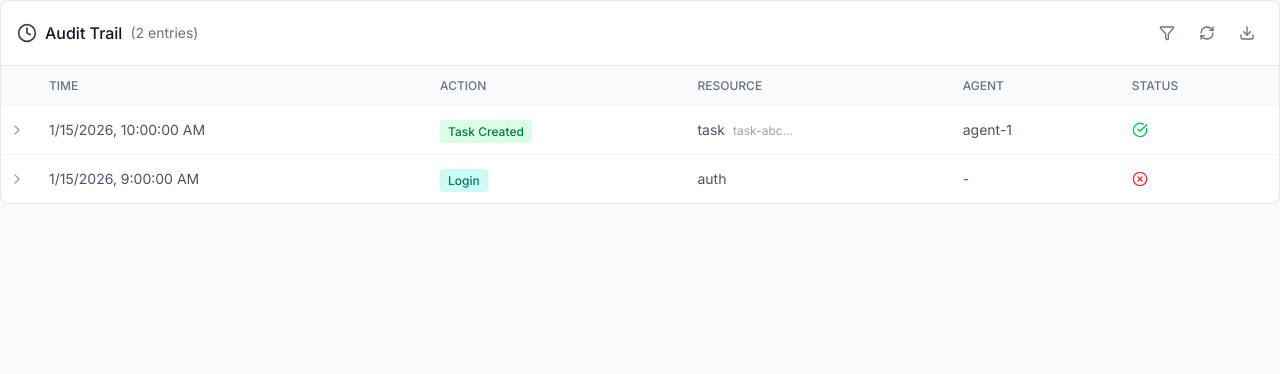
Scenario: AuditLogTable › expands row on click to show details
Expected: the text "Task Created" is shown, left=440, top=120, right=532, bottom=143
# Click on the first row
Click the text "Task Created". click: click(640, 130)
box: left=1, top=106, right=1279, bottom=154
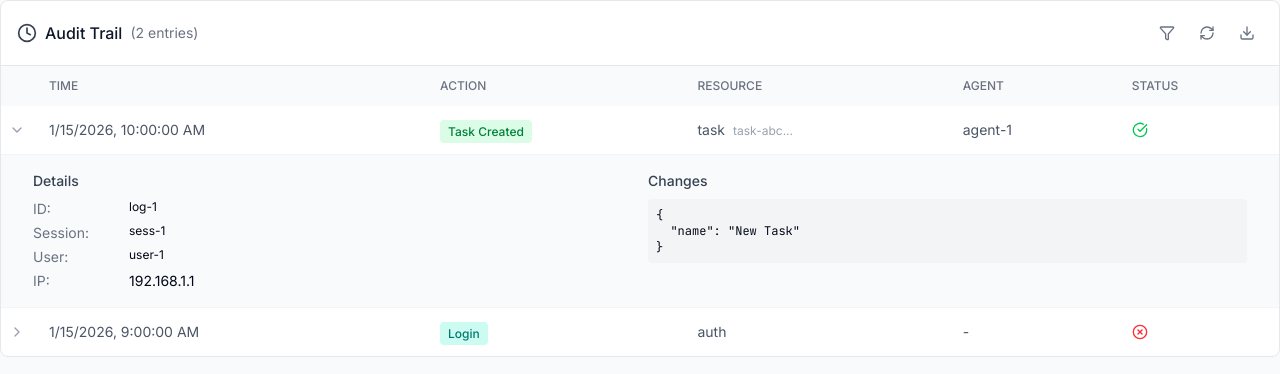
Now the heading "Details" is shown, box left=33, top=172, right=79, bottom=189
